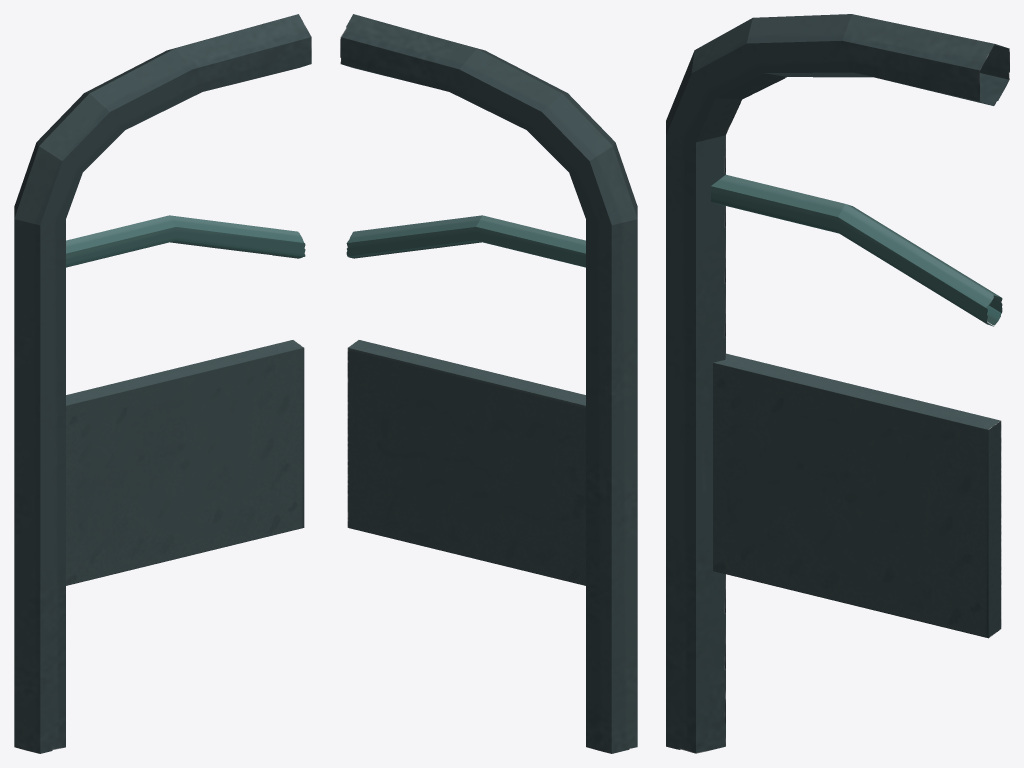
Rendered from MK_Ship_FenceBorder.fbx.
The picture shows the model from 3 angles, left to right: view 1: azimuth 30°, elevation 25°; view 2: azimuth 150°, elevation 25°; view 3: azimuth 330°, elevation 25°; orthographic projection. The views are drawn at different scales.
Parts seen in each view (by area): view 1: MK_Ship_FenceBorder; view 2: MK_Ship_FenceBorder; view 3: MK_Ship_FenceBorder.
Part boxes in pixels (box(x1,y1,x2,y2)): MK_Ship_FenceBorder: box(14, 14, 311, 753); MK_Ship_FenceBorder: box(340, 14, 637, 753); MK_Ship_FenceBorder: box(666, 14, 1009, 753).
Bounding box in the file's own units: 0.1375 × 0.3069 × 0.0217.
Materials: 1 (1 with a texture image).
